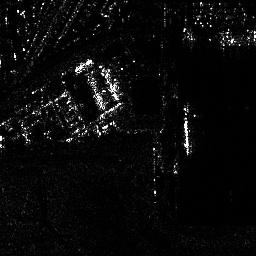ship: (179, 103, 191, 156)
